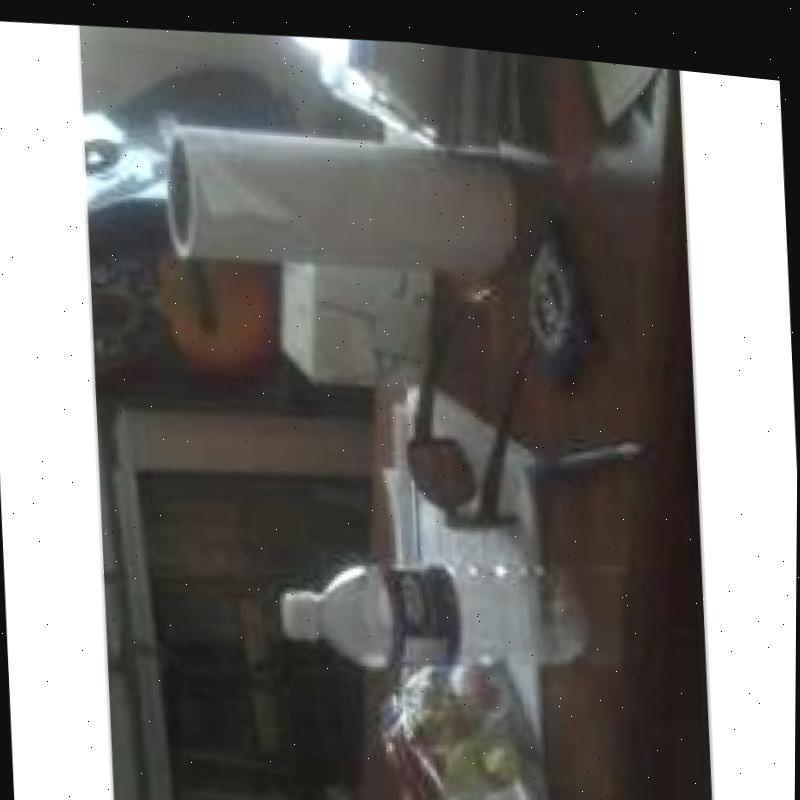botella: (280, 524, 593, 682)
